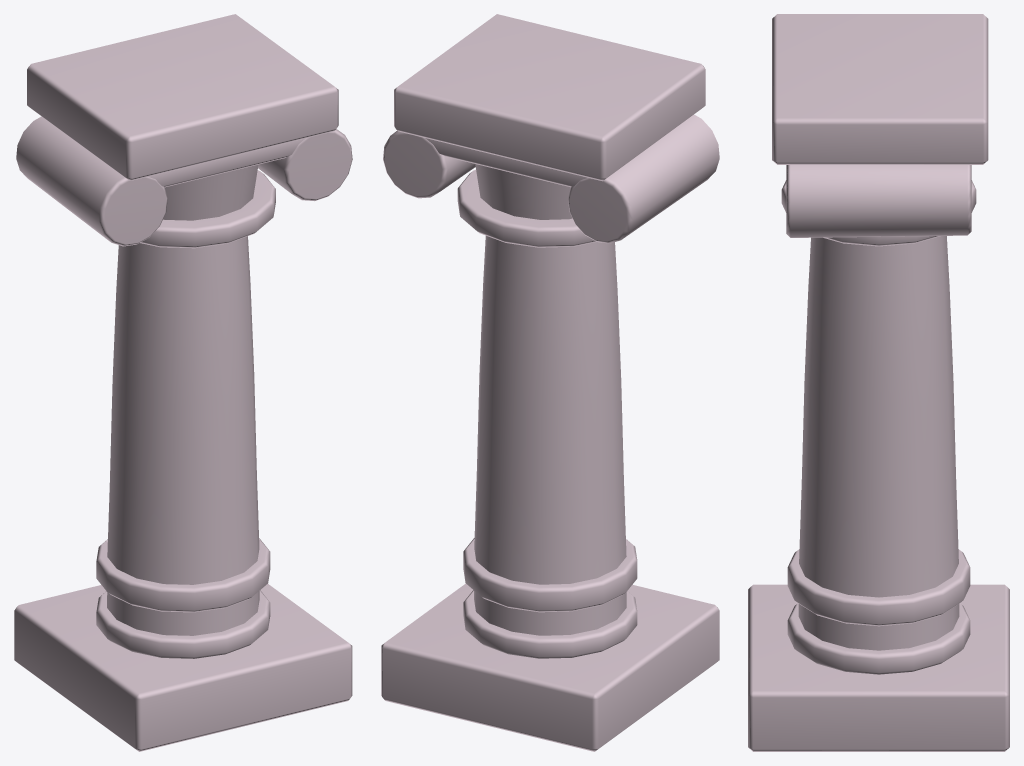
The model's file is mod_sc_roma_001_column_001.fbx.
The picture shows the model from 3 angles, left to right: view 1: azimuth 30°, elevation 25°; view 2: azimuth 150°, elevation 25°; view 3: azimuth 270°, elevation 25°; orthographic projection. The views are drawn at different scales.
Parts seen in each view (by area): view 1: mod_sc_roma_001_column_001; view 2: mod_sc_roma_001_column_001; view 3: mod_sc_roma_001_column_001.
Boxes of the visible parts, bbox=[...] form: mod_sc_roma_001_column_001: bbox=[14, 14, 352, 751]; mod_sc_roma_001_column_001: bbox=[381, 14, 719, 751]; mod_sc_roma_001_column_001: bbox=[748, 14, 1009, 751].
Size of what is drawn, in the model's own units: 175 by 400 by 150.
